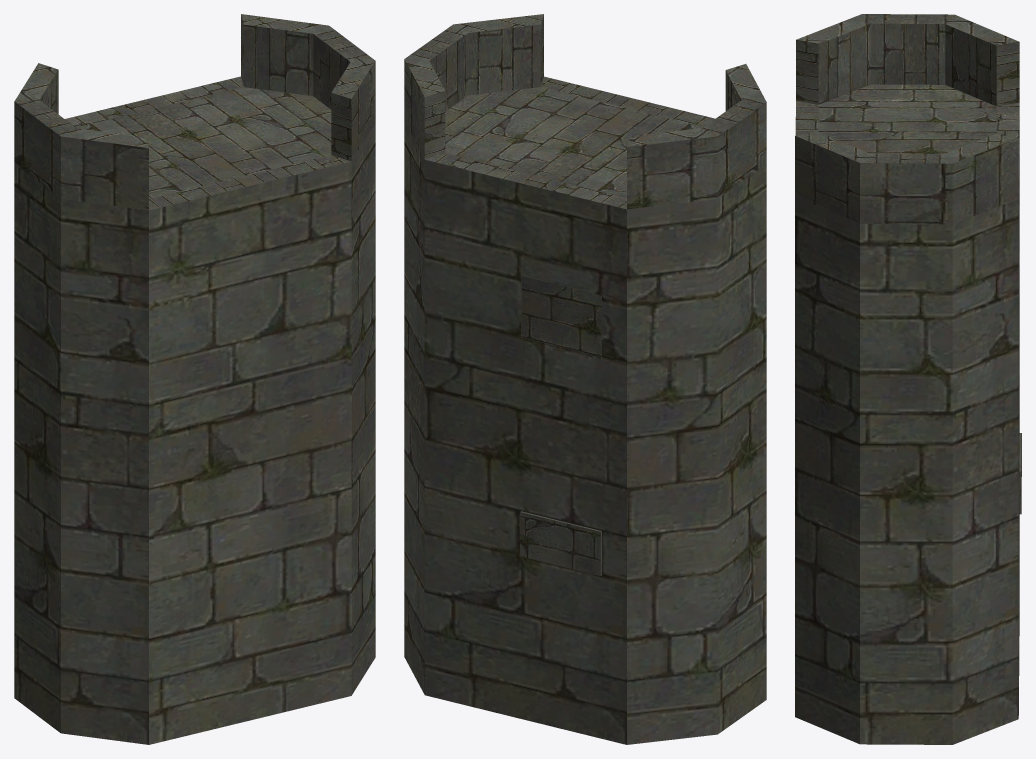
Rendered from brick_tower1.fbx.
3 renders of one model, left to right at view 1: azimuth 30°, elevation 25°; view 2: azimuth 150°, elevation 25°; view 3: azimuth 270°, elevation 25°, orthographic. The views are drawn at different scales.
Visible parts, largest first — view 1: Stone_Bidge_base.001; view 2: Stone_Bidge_base.001; view 3: Stone_Bidge_base.001.
Part boxes in pixels (left/top/right/bottom): Stone_Bidge_base.001: left=14, top=14, right=375, bottom=744; Stone_Bidge_base.001: left=404, top=14, right=766, bottom=744; Stone_Bidge_base.001: left=795, top=14, right=1021, bottom=744.
Size of the model in its own units: 2184 by 3956 by 1398.
